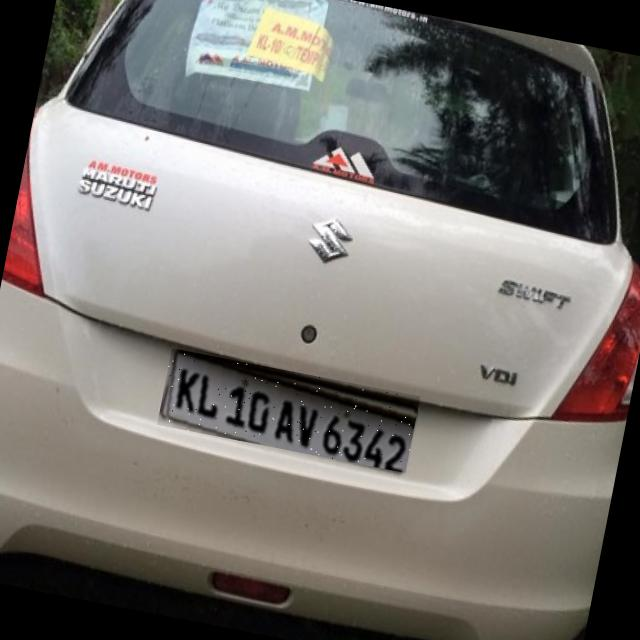Plate: (158, 349, 421, 474)
